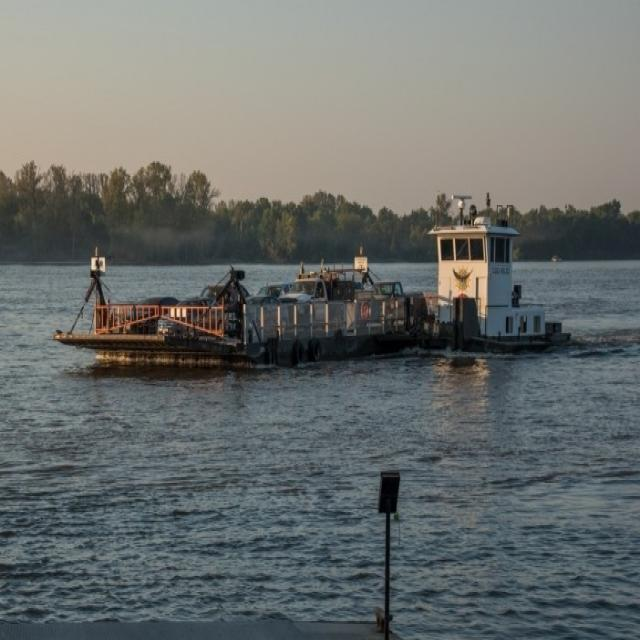cargoship: (76, 192, 552, 383)
